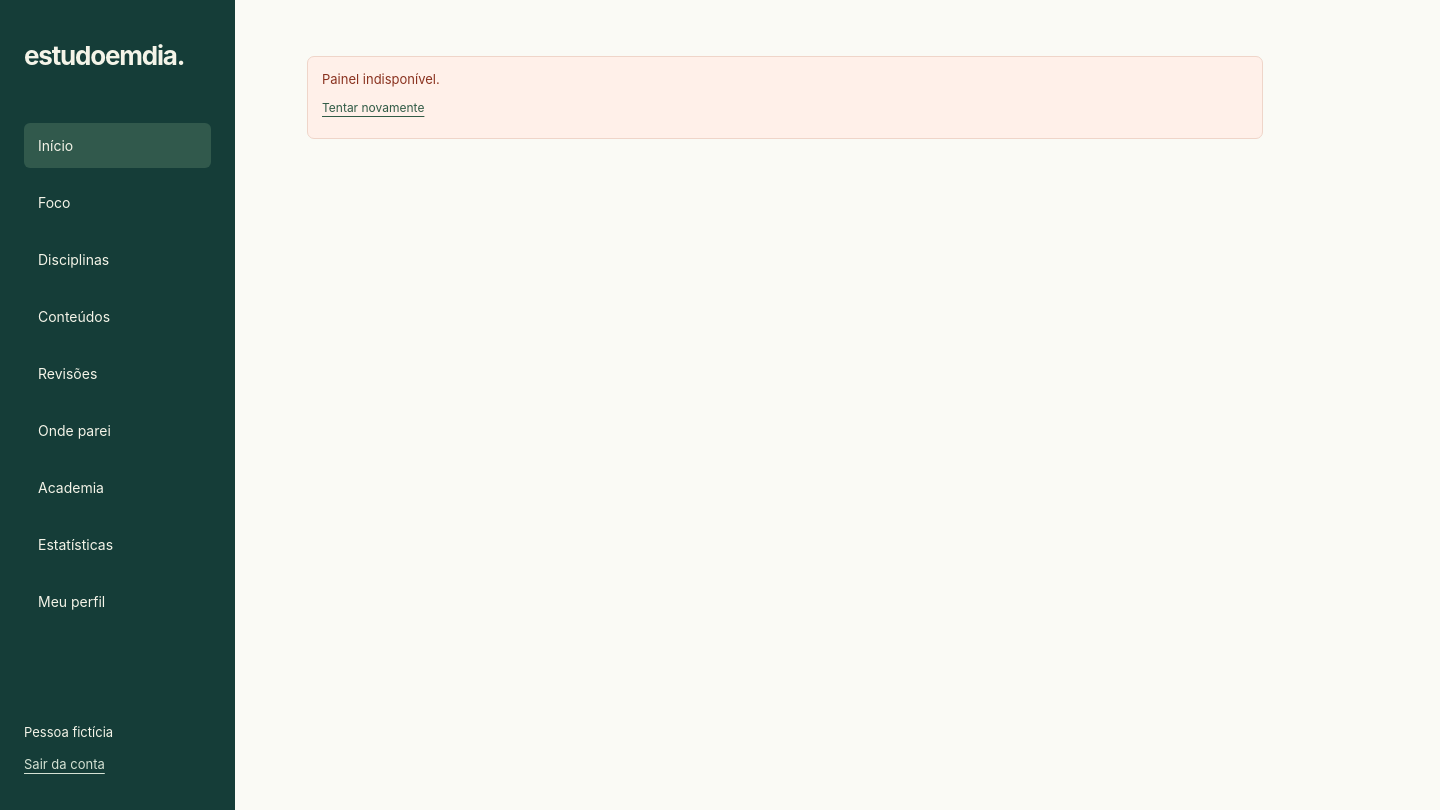
Test case: conteúdos e continuidade › painel mostra a próxima ação confirmada e permite tentar novamente após falha
This screenshot has width=1440, height=810.
Check: the message "Painel indisponível." is shown, box [322, 71, 440, 87]
Check: the heading "Abrir o livro na página 30" is not shown
Click the button "Tentar novamente".
click(373, 108)  # box [322, 90, 424, 126]
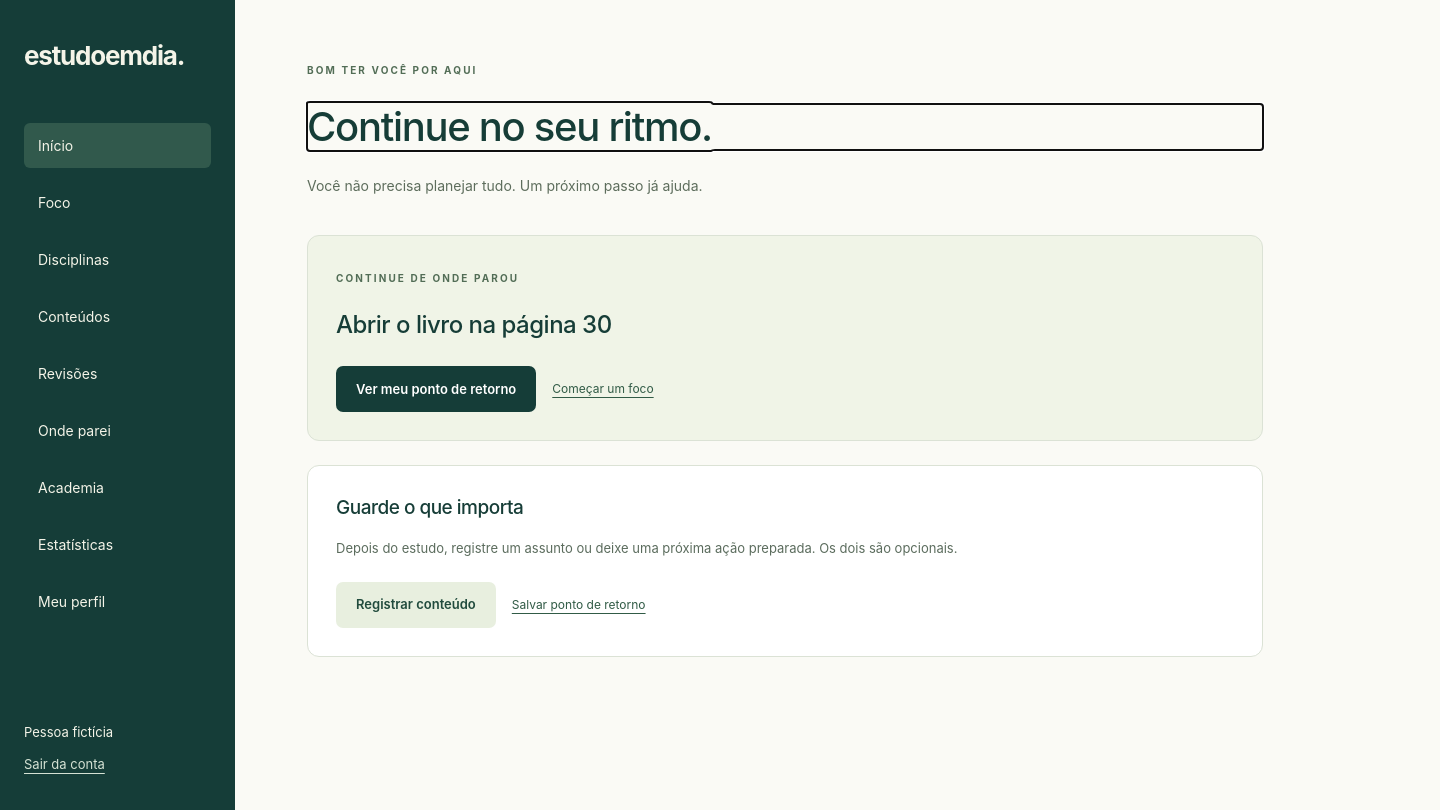
Check: the heading "Abrir o livro na página 30" is shown, box [336, 310, 612, 339]
